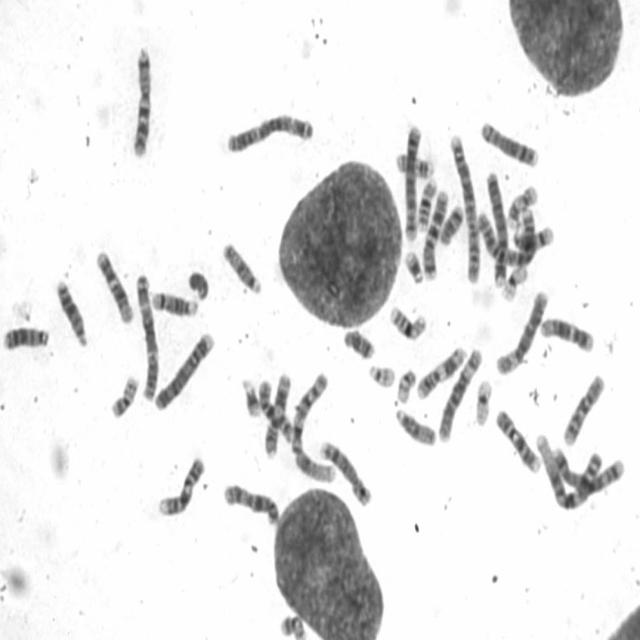A1: (532, 428, 604, 510), (289, 369, 337, 485)
A2: (448, 131, 482, 286), (476, 205, 538, 267)
A3: (224, 110, 315, 156), (134, 270, 160, 402)
B4: (152, 329, 214, 413), (482, 166, 508, 288)
B5: (549, 441, 627, 506), (401, 120, 422, 242)
C10: (560, 369, 606, 448), (256, 379, 294, 447)
C11: (414, 342, 468, 401), (264, 373, 293, 466)
C12: (94, 246, 134, 326), (538, 314, 596, 353)
C6: (493, 287, 549, 377), (436, 344, 483, 444)
C7: (129, 41, 154, 160), (420, 185, 450, 280)
C8: (318, 440, 374, 509), (478, 118, 540, 168)
C9: (493, 404, 541, 475), (156, 453, 206, 518)
D13: (54, 276, 88, 348), (1, 322, 49, 352)
D14: (148, 286, 200, 318), (510, 221, 555, 253)
D15: (220, 238, 263, 296), (393, 404, 437, 448)
E16: (388, 301, 428, 342), (414, 174, 438, 232)
E17: (504, 181, 539, 230), (393, 147, 435, 180)
E18: (437, 200, 465, 248), (341, 325, 376, 361)
F19: (499, 262, 528, 302), (472, 377, 492, 428)
F20: (108, 370, 140, 420), (278, 611, 307, 639)
G21: (238, 374, 262, 420), (403, 246, 425, 286)
G22: (366, 361, 396, 390), (395, 366, 417, 404)
X: (221, 479, 281, 526)
Y: (186, 266, 210, 301)
